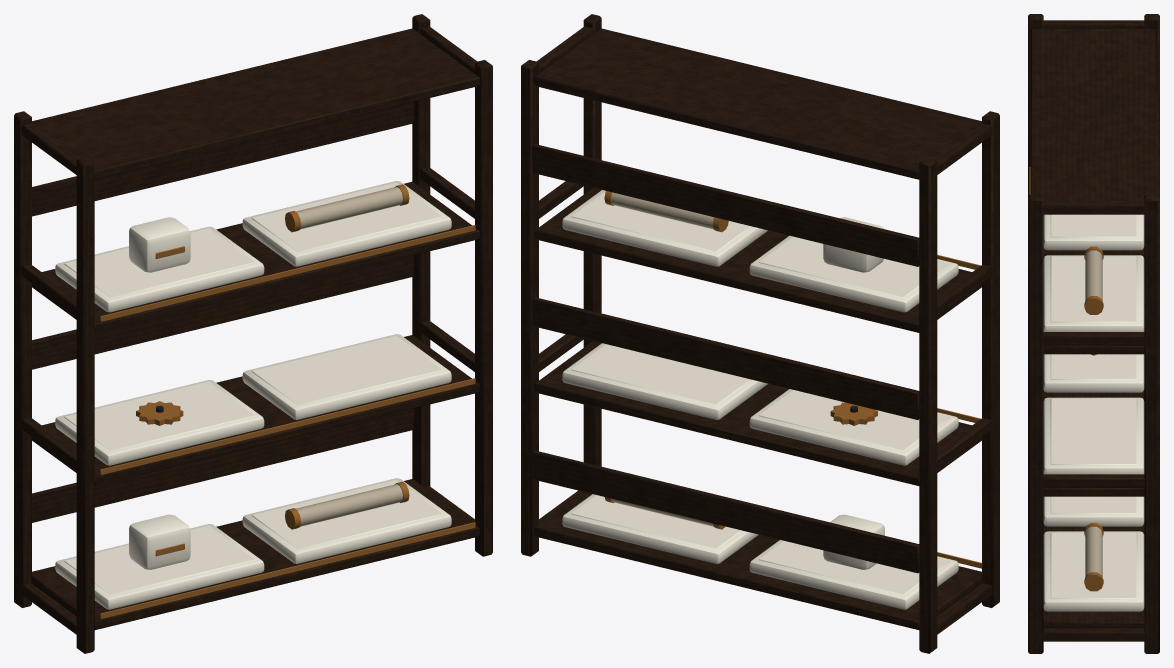
The model's file is maker-result-shelf.lod0.glb.
3 views of the same model, side by side, from view 1: azimuth 30°, elevation 25°; view 2: azimuth 150°, elevation 25°; view 3: azimuth 270°, elevation 25° (orthographic). The views are drawn at different scales.
Parts seen in each view (by area): view 1: maker_result_shelf_Timber • oiled walnut, maker_result_shelf_Ceramic • warm ivory, maker_result_shelf_Trim • places palette; view 2: maker_result_shelf_Timber • oiled walnut, maker_result_shelf_Ceramic • warm ivory, maker_result_shelf_Trim • places palette; view 3: maker_result_shelf_Timber • oiled walnut, maker_result_shelf_Ceramic • warm ivory, maker_result_shelf_Trim • places palette.
Boxes of the visible parts, x1,y1,x2,y2 form: maker_result_shelf_Timber • oiled walnut: [14, 14, 492, 653]; maker_result_shelf_Ceramic • warm ivory: [55, 181, 451, 609]; maker_result_shelf_Trim • places palette: [100, 184, 475, 618]; maker_result_shelf_Timber • oiled walnut: [521, 14, 999, 653]; maker_result_shelf_Ceramic • warm ivory: [562, 190, 958, 609]; maker_result_shelf_Trim • places palette: [604, 191, 981, 568]; maker_result_shelf_Timber • oiled walnut: [1028, 14, 1159, 653]; maker_result_shelf_Ceramic • warm ivory: [1043, 214, 1144, 611]; maker_result_shelf_Trim • places palette: [1029, 167, 1103, 591].
Size of the model in its own units: 1.4 by 1.6 by 0.42.
Materials: 3 (2 with a texture image).
